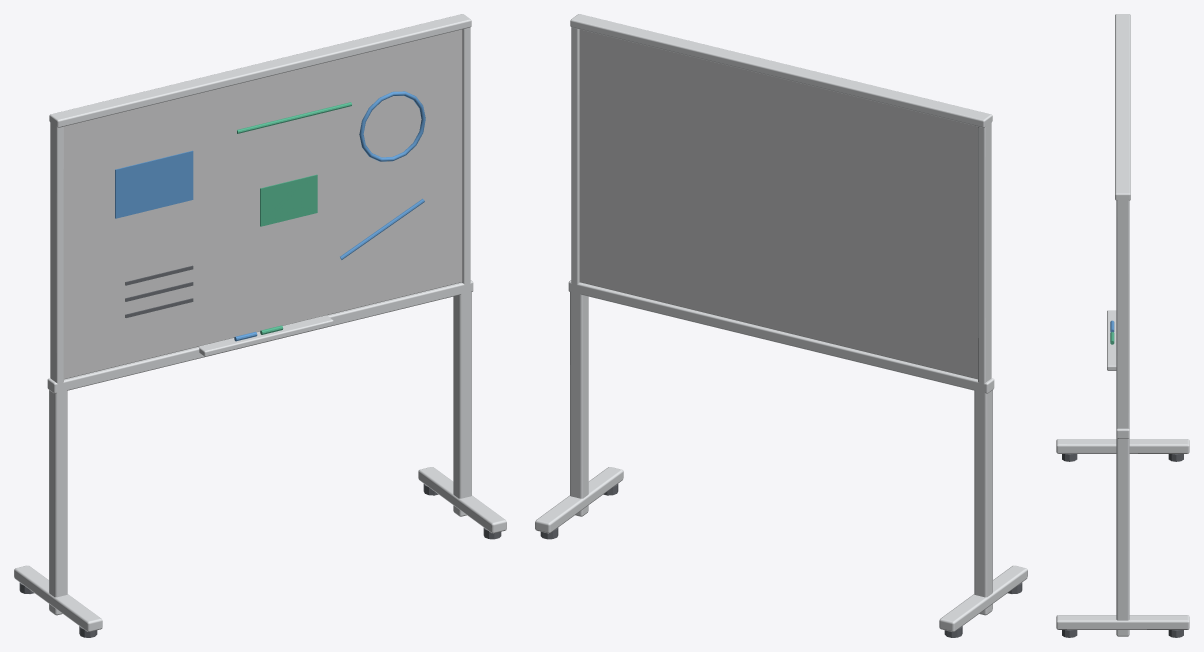
The model's file is whiteboard.glb.
3 renders of one model, left to right at view 1: azimuth 30°, elevation 25°; view 2: azimuth 150°, elevation 25°; view 3: azimuth 270°, elevation 25°, orthographic. The views are drawn at different scales.
Parts seen in each view (by area): view 1: whiteboard; view 2: whiteboard; view 3: whiteboard.
Part boxes in pixels (x1,y1,x2,y2): whiteboard: (14, 14, 506, 637); whiteboard: (535, 14, 1027, 637); whiteboard: (1056, 14, 1189, 637).
Bounding box in the file's own units: 1.62 × 1.83 × 0.5.
